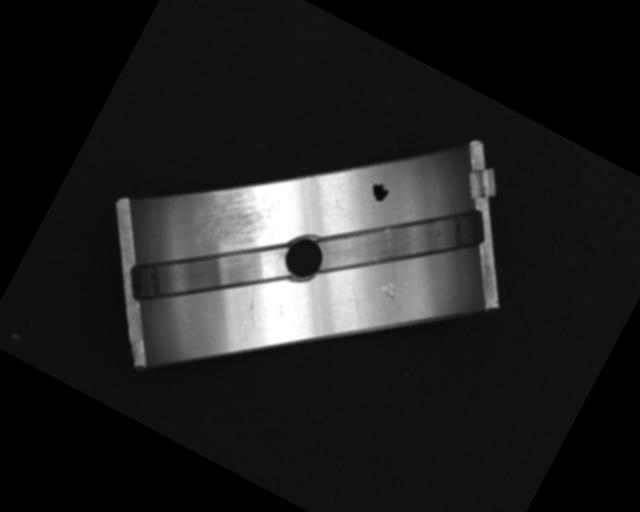blot: (365, 177, 393, 205)
bruise: (377, 278, 403, 303)
gap: (310, 156, 487, 324), (119, 197, 289, 355)
hole: (274, 229, 332, 287)
nick: (233, 283, 271, 333), (339, 283, 373, 318)
scratch: (185, 164, 288, 264)
